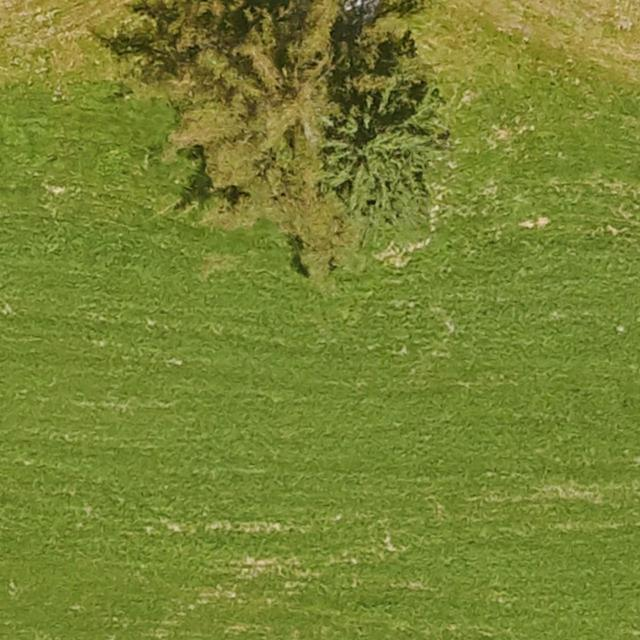tree: (171, 2, 417, 272), (329, 84, 447, 215)
